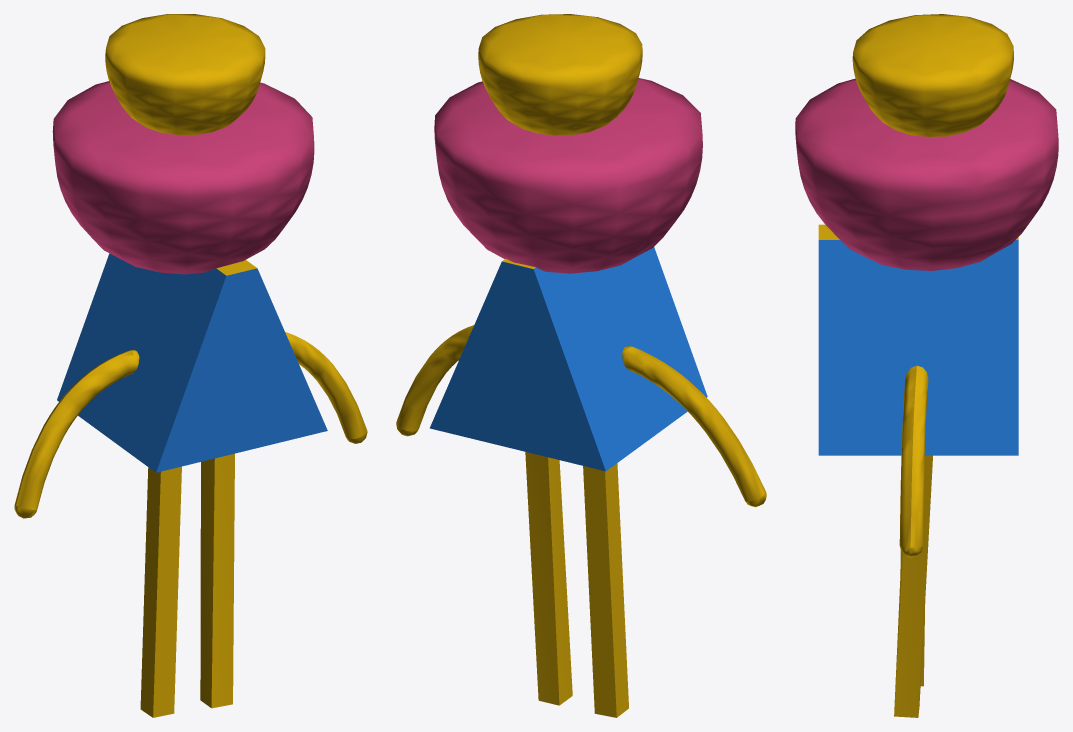
The model's file is guest11.fbx.
3 views of the same model, side by side, from view 1: azimuth 30°, elevation 25°; view 2: azimuth 150°, elevation 25°; view 3: azimuth 270°, elevation 25° (orthographic). The views are drawn at different scales.
Visible parts, largest first — view 1: guest11; view 2: guest11; view 3: guest11.
Boxes of the visible parts, x1,y1,x2,y2 form: guest11: (14, 14, 367, 717); guest11: (396, 14, 766, 717); guest11: (795, 14, 1058, 717).
Bounding box in the file's own units: 113 × 201 × 72.44.
